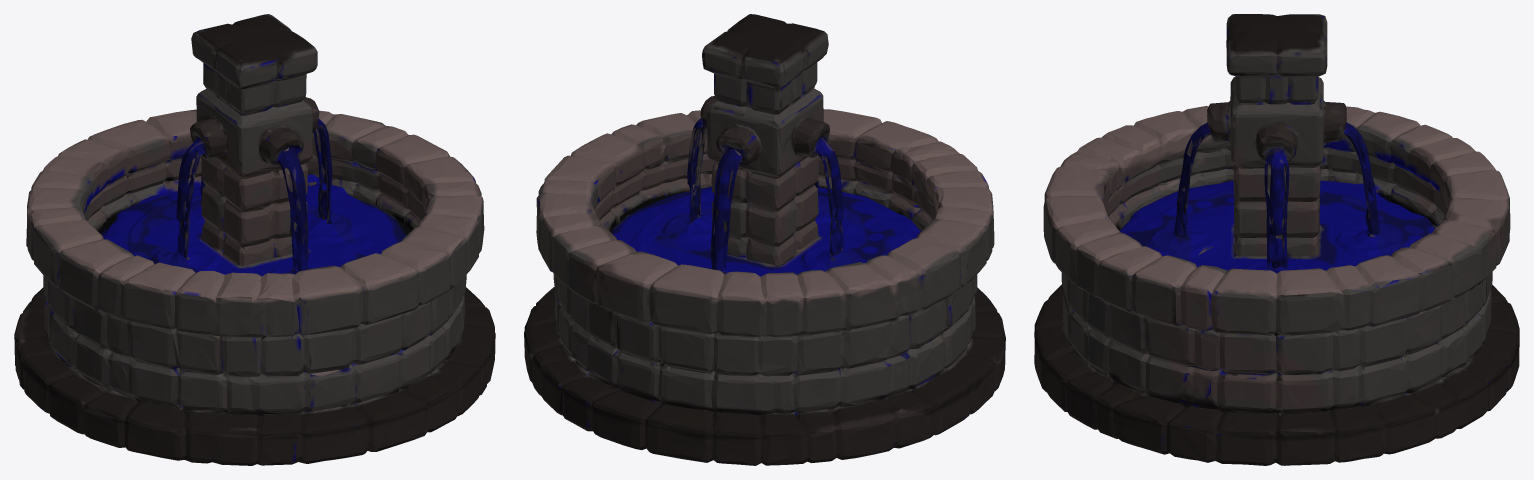
File: fonte.glb
3 renders of one model, left to right at view 1: azimuth 30°, elevation 25°; view 2: azimuth 150°, elevation 25°; view 3: azimuth 270°, elevation 25°, orthographic.
Visible parts, largest first — view 1: tmprg__rpih.ply; view 2: tmprg__rpih.ply; view 3: tmprg__rpih.ply.
Boxes of the visible parts, bbox=[...] form: tmprg__rpih.ply: bbox=[14, 14, 495, 465]; tmprg__rpih.ply: bbox=[524, 14, 1005, 465]; tmprg__rpih.ply: bbox=[1034, 14, 1519, 465].
Size of the model in its own units: 1.96 by 1.51 by 1.96.
1 material, 1 textured.
